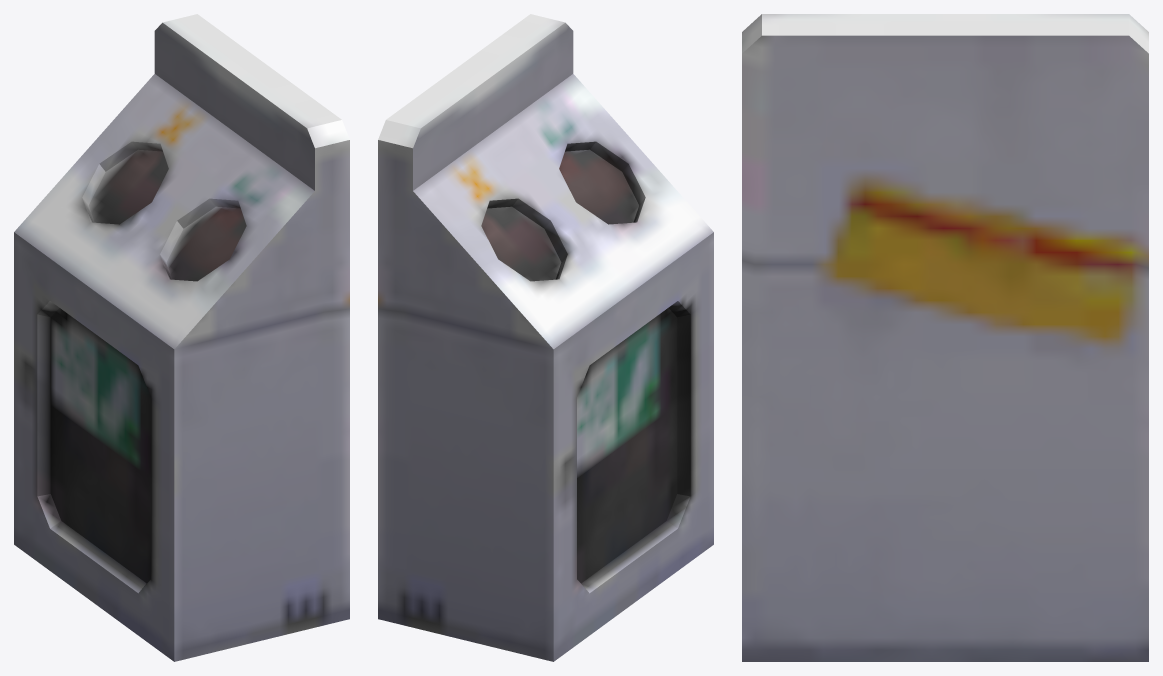
File: sb_city_01_prop_23.fbx
3 views of the same model, side by side, from view 1: azimuth 30°, elevation 25°; view 2: azimuth 150°, elevation 25°; view 3: azimuth 270°, elevation 25° (orthographic). The views are drawn at different scales.
Visible parts, largest first — view 1: sb_city_01_prop_23; view 2: sb_city_01_prop_23; view 3: sb_city_01_prop_23.
Boxes of the visible parts, box(x1,y1,x2,y2) form: sb_city_01_prop_23: box(14, 14, 349, 661); sb_city_01_prop_23: box(378, 14, 713, 661); sb_city_01_prop_23: box(742, 14, 1148, 661).
Size of the model in its own units: 0.2899 by 0.7788 by 0.4585.
Materials: 1 (1 with a texture image).
